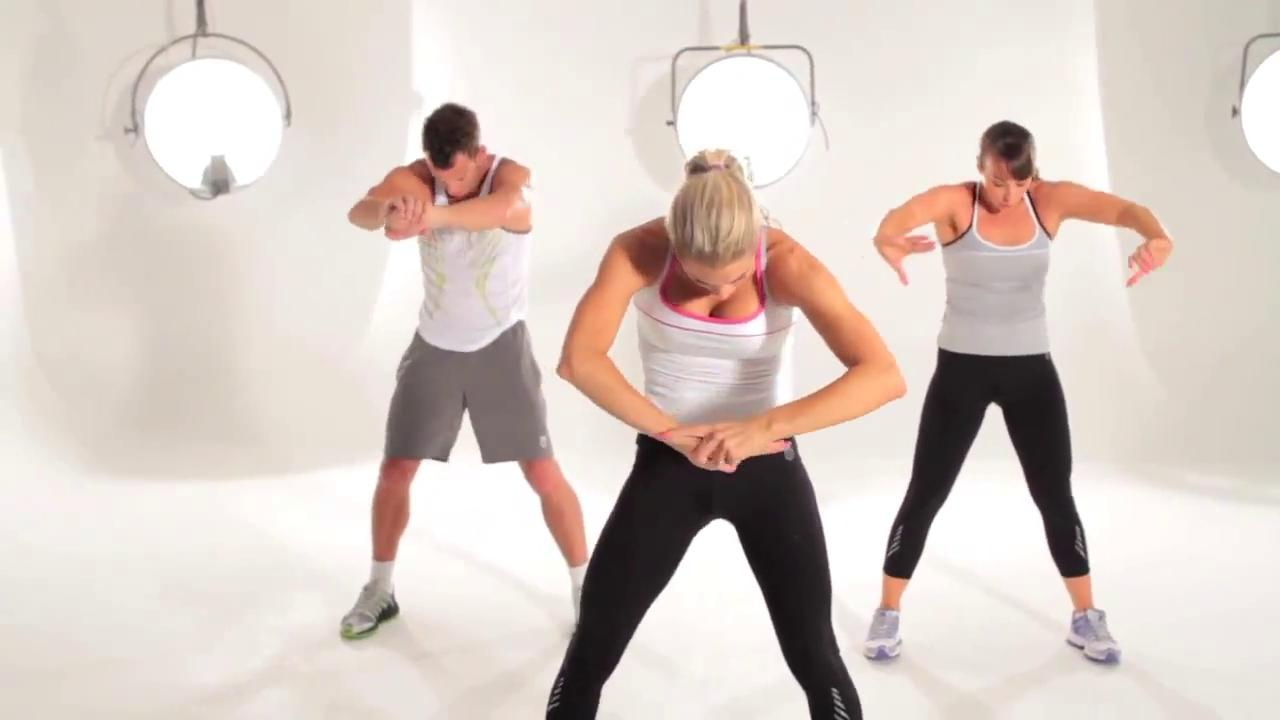victim: (551, 148, 910, 718), (868, 126, 1182, 670), (334, 100, 608, 652)
